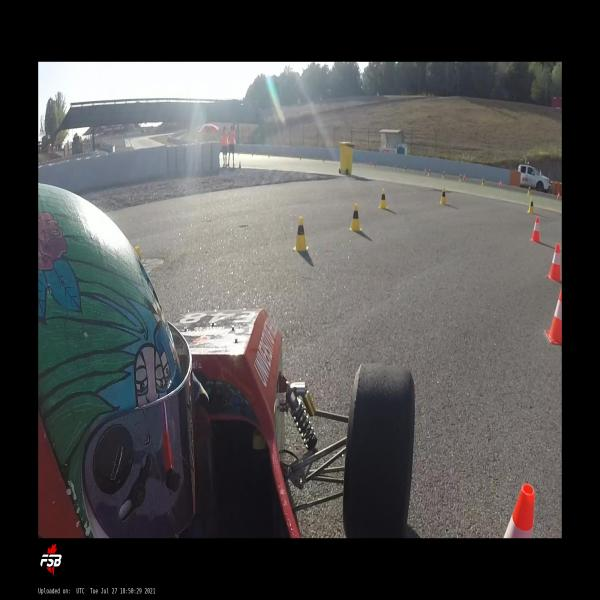orange_cone: (501, 484, 534, 538), (545, 284, 562, 346), (546, 244, 562, 282), (530, 216, 542, 244), (556, 191, 560, 200), (498, 180, 502, 188), (463, 174, 466, 181), (394, 164, 397, 170), (424, 168, 426, 174)
yellow_cone: (292, 216, 310, 252), (348, 203, 363, 232), (378, 188, 388, 210), (526, 197, 535, 214), (439, 186, 447, 205), (527, 186, 531, 195), (458, 174, 462, 182), (481, 178, 485, 186), (442, 171, 445, 179), (428, 170, 431, 177), (404, 166, 407, 171)
